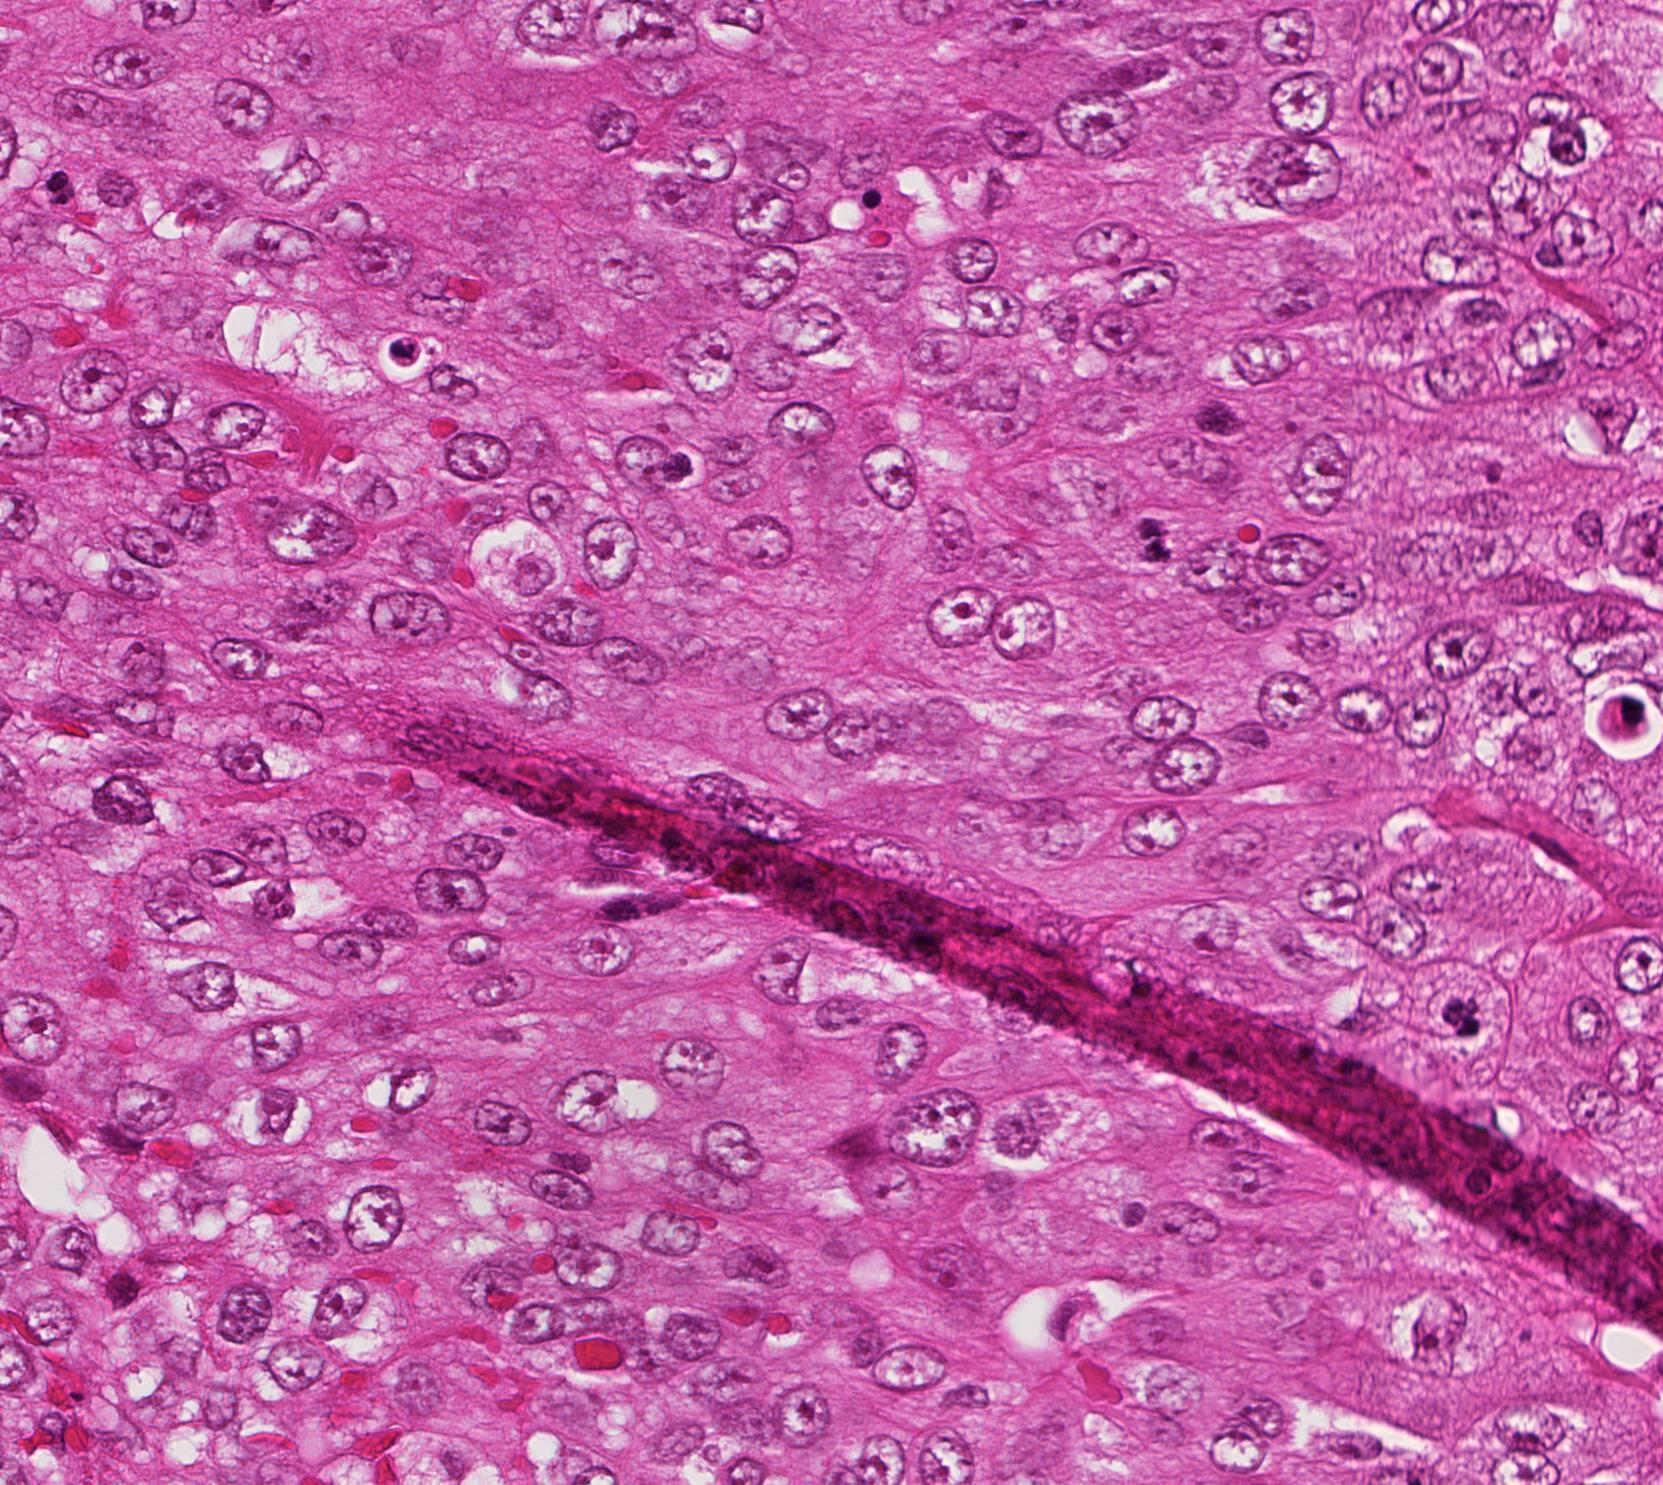mitosis: (1429, 980, 1490, 1041), (1125, 509, 1186, 569)
